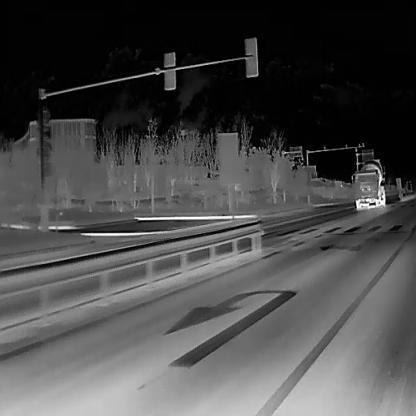car: (350, 158, 386, 210)
